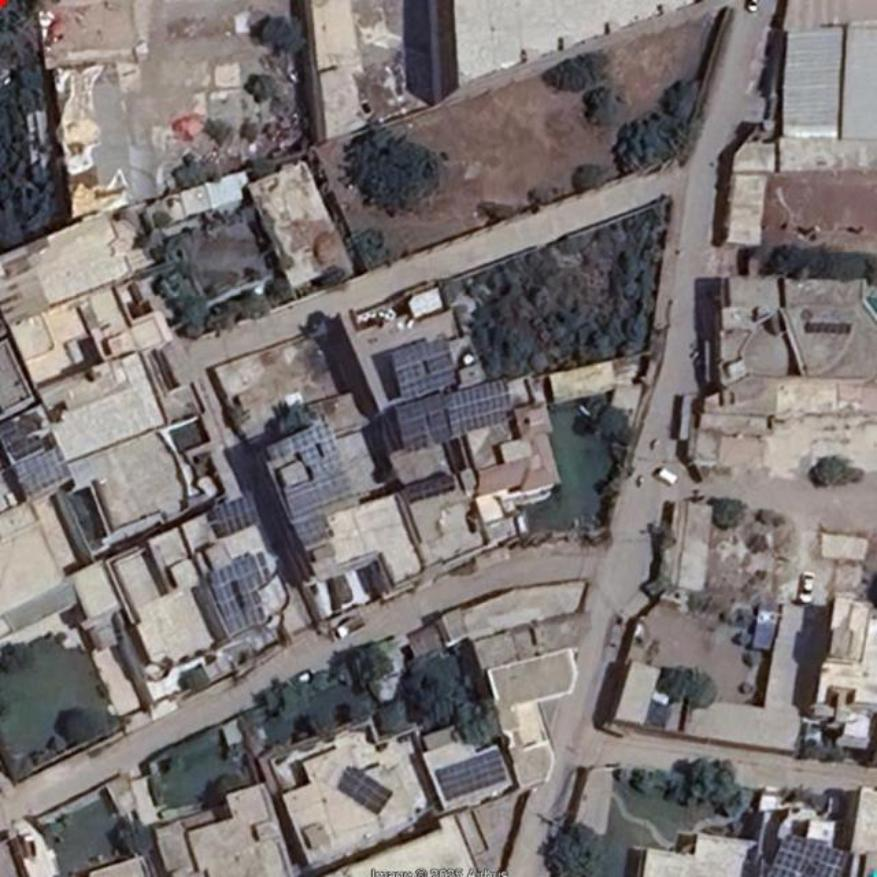Solarpanel: (266, 422, 356, 521), (398, 379, 508, 453), (211, 551, 284, 633), (391, 338, 461, 394), (765, 832, 850, 876), (436, 751, 506, 801), (338, 766, 393, 813), (15, 447, 68, 495), (213, 493, 259, 537), (294, 510, 329, 547), (7, 432, 44, 459)
